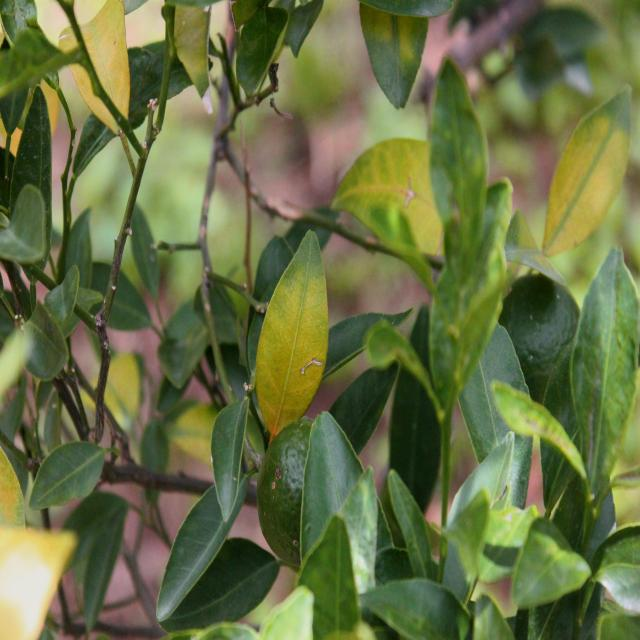greening: (252, 247, 334, 427), (544, 114, 634, 246), (349, 145, 439, 258)
